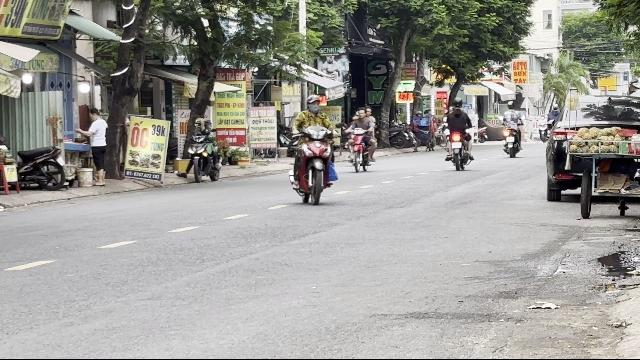helmet: (305, 94, 321, 114)
motorcyclist: (282, 93, 338, 203)
